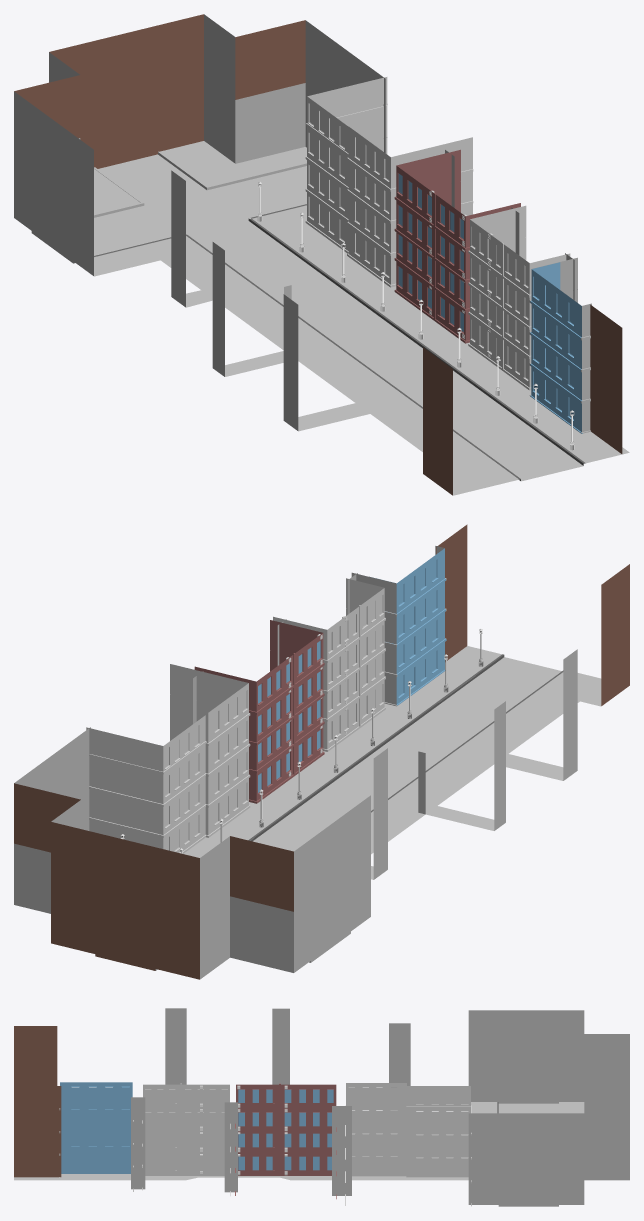
File: simplestreet2.fbx
3 views of the same model, one above another, from view 1: azimuth 30°, elevation 25°; view 2: azimuth 150°, elevation 25°; view 3: azimuth 270°, elevation 25° (orthographic). The views are drawn at different scales.
Visible parts, largest first — view 1: street, cube_9, cube_4, cube_8, cube_2, cube_3, cube; view 2: street, cube_9, cube_4, cube_8, cube_2, cube_3, cube; view 3: street, cube_9, cube_4, cube_8, cube_2, cube_3.
Boxes of the visible parts, x1=… form: street: x1=14, y1=14, x2=629, y2=495; cube_9: x1=305, y1=77, x2=473, y2=287; cube_4: x1=394, y1=149, x2=520, y2=343; cube_8: x1=468, y1=205, x2=570, y2=390; cube_2: x1=530, y1=262, x2=581, y2=371; cube_3: x1=530, y1=332, x2=582, y2=433; cube: x1=529, y1=257, x2=591, y2=433; street: x1=14, y1=524, x2=629, y2=979; cube_9: x1=86, y1=664, x2=250, y2=853; cube_4: x1=194, y1=620, x2=324, y2=803; cube_8: x1=273, y1=578, x2=385, y2=751; cube_2: x1=369, y1=548, x2=445, y2=646; cube_3: x1=396, y1=612, x2=446, y2=705; cube: x1=351, y1=546, x2=446, y2=706; street: x1=14, y1=1008, x2=629, y2=1206; cube_9: x1=345, y1=1083, x2=471, y2=1206; cube_4: x1=235, y1=1083, x2=336, y2=1199; cube_8: x1=142, y1=1083, x2=230, y2=1196; cube_2: x1=60, y1=1082, x2=132, y2=1128; cube_3: x1=61, y1=1128, x2=130, y2=1173.
Size of the model in its own units: 620 by 260 by 1523.
